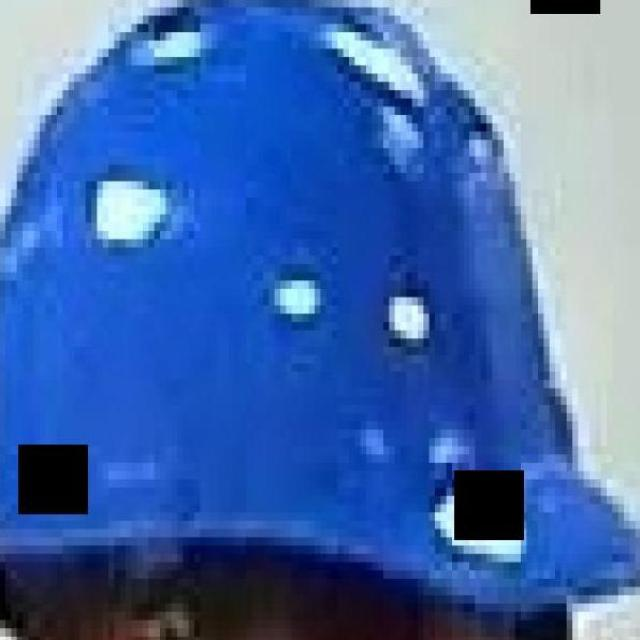blue helmet: (1, 1, 640, 610)
